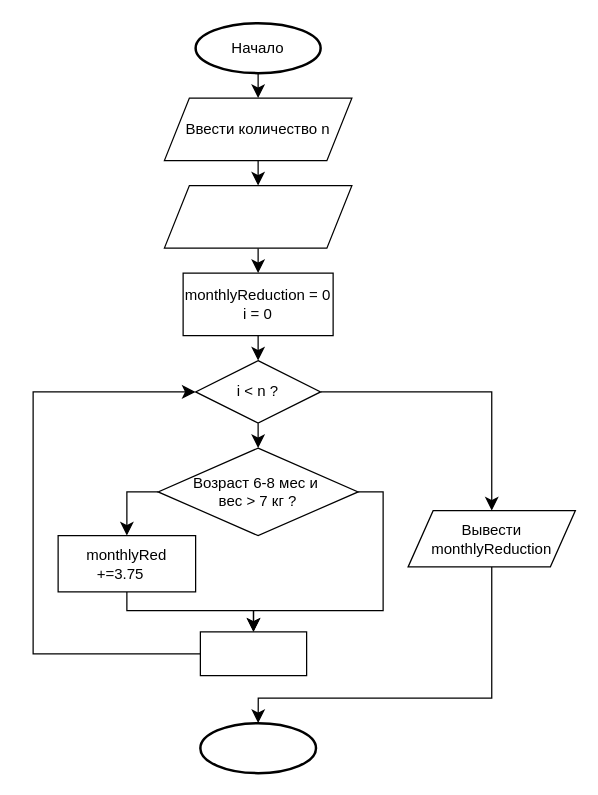
The diagram is 598 pixels wide and 795 high, and some of its shapes have lost their labels. The shapes that lost their labels are listed below. From the top down, each one's centre as x and y in pixels, then its label:
At [257,216]: "Ввести возраст и вес".
At [253,653]: "i = i+1".
At [257,747]: "Конец".
